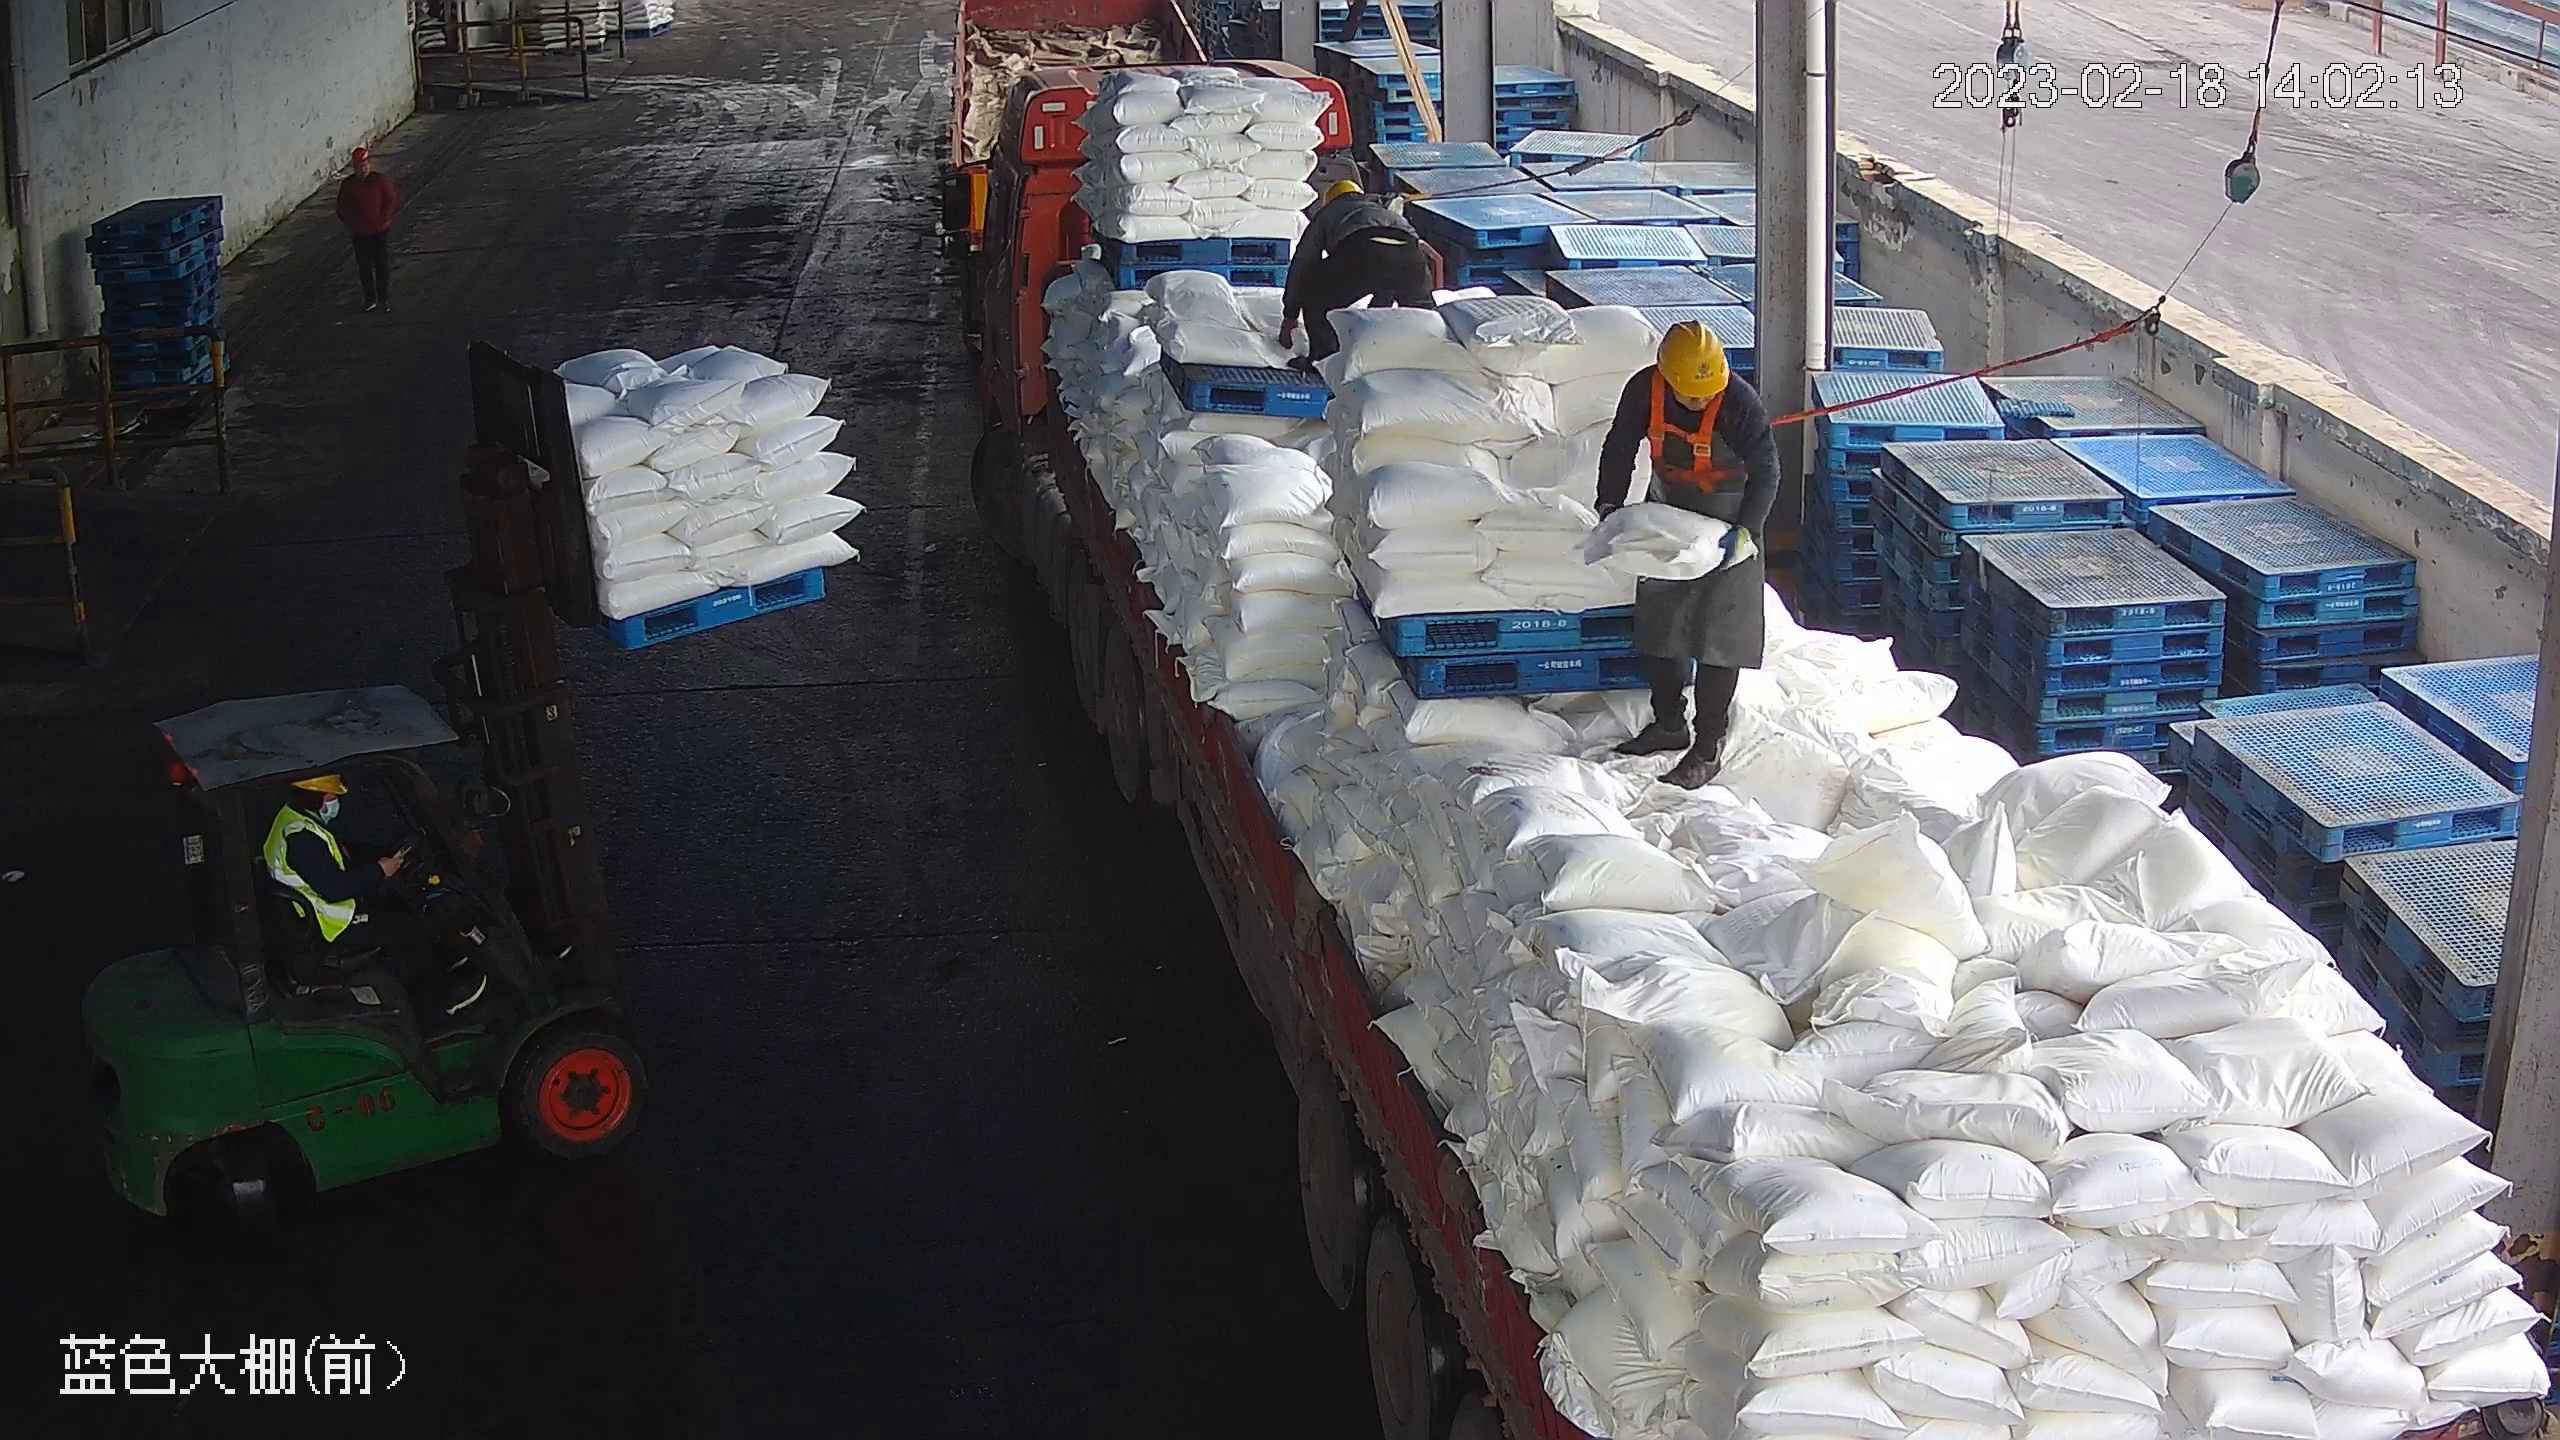belt: (1643, 377, 1789, 496), (1350, 187, 1417, 245)
head: (1621, 315, 1766, 442), (269, 772, 366, 867), (1308, 177, 1373, 229), (335, 142, 391, 200)
helmet: (1655, 316, 1728, 399), (1324, 167, 1361, 199), (345, 144, 372, 163)
people: (1586, 316, 1777, 786), (1275, 161, 1461, 364), (263, 765, 405, 977), (333, 142, 404, 318)
truck: (947, 1, 2560, 1440)
